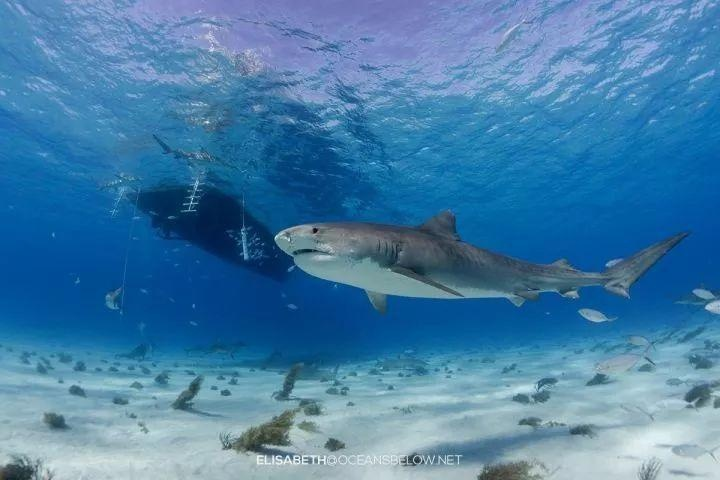fish: (264, 217, 698, 322)
